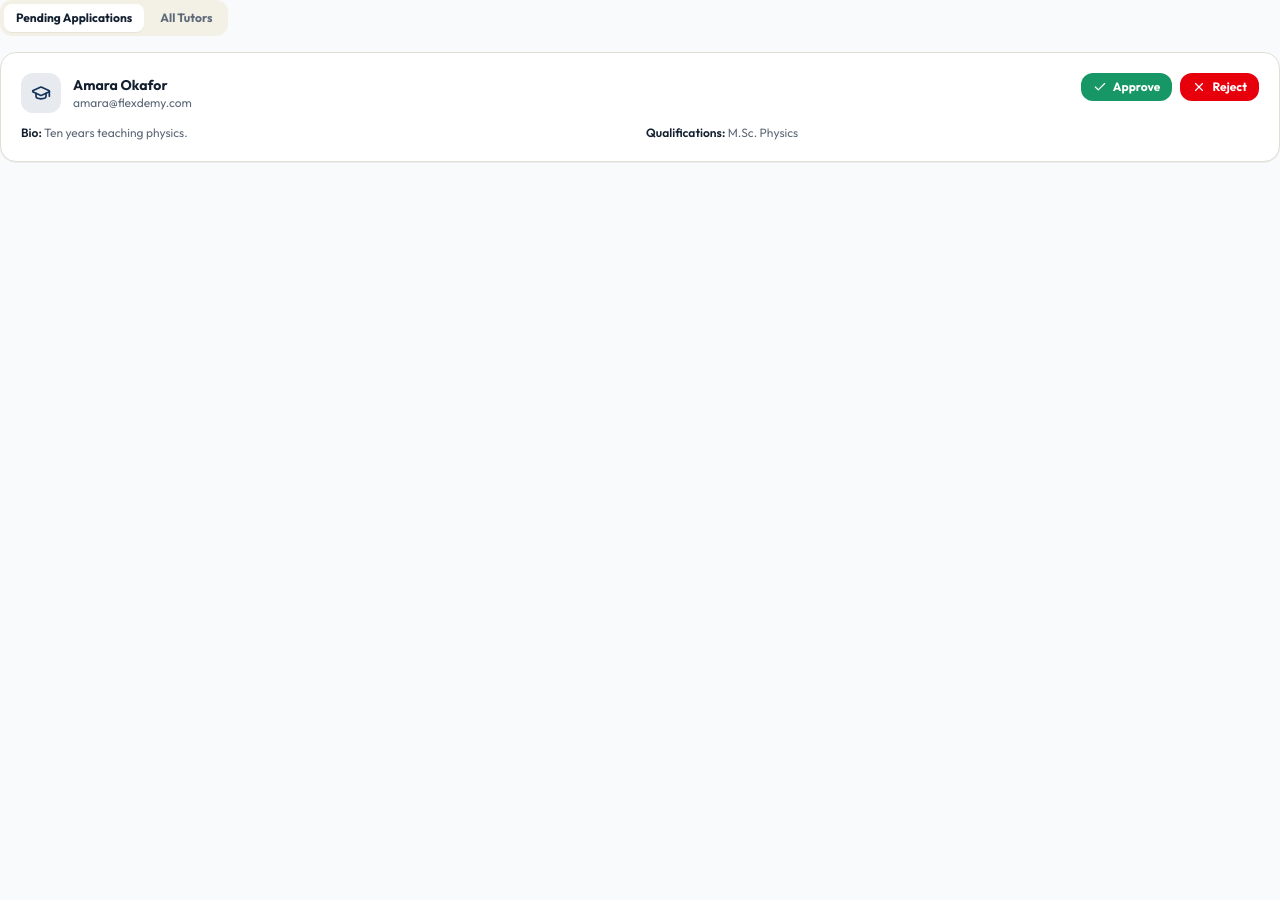
Test: TutorApprovals › Reject opens an inline reason textarea (no browser prompt) and requires a reason before confirming
The image size is (1280, 900).
Expected: the text "Amara Okafor" is shown, [73,76,168,94]
Click the button "Reject". click: point(1220, 87)
box: [1180,73,1259,101]
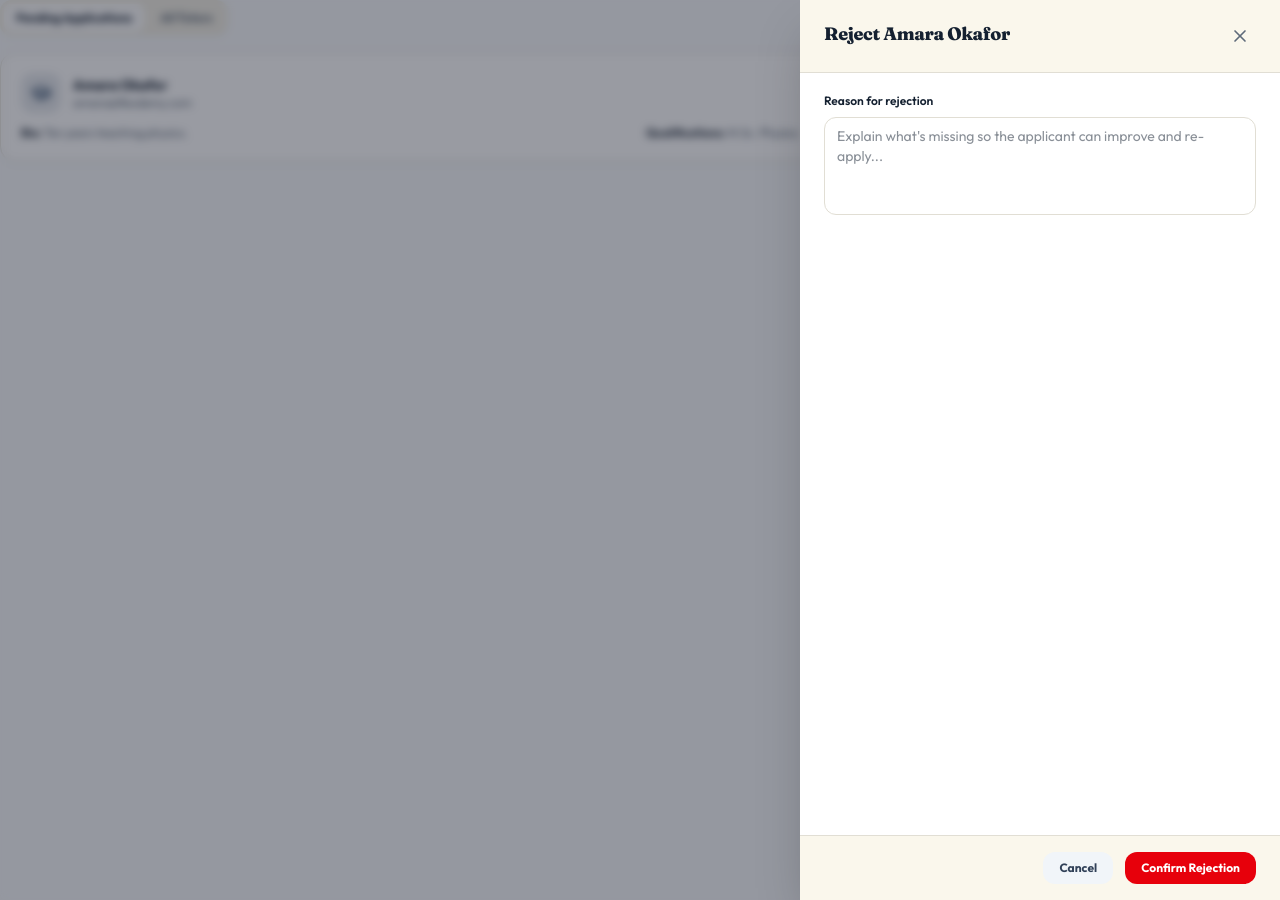
Expected: the text box labelled "Reason for rejection" is shown, [824,117,1256,215]
Click the button "Confirm Rejection". click: point(1191, 868)
box: [1125,852,1256,884]
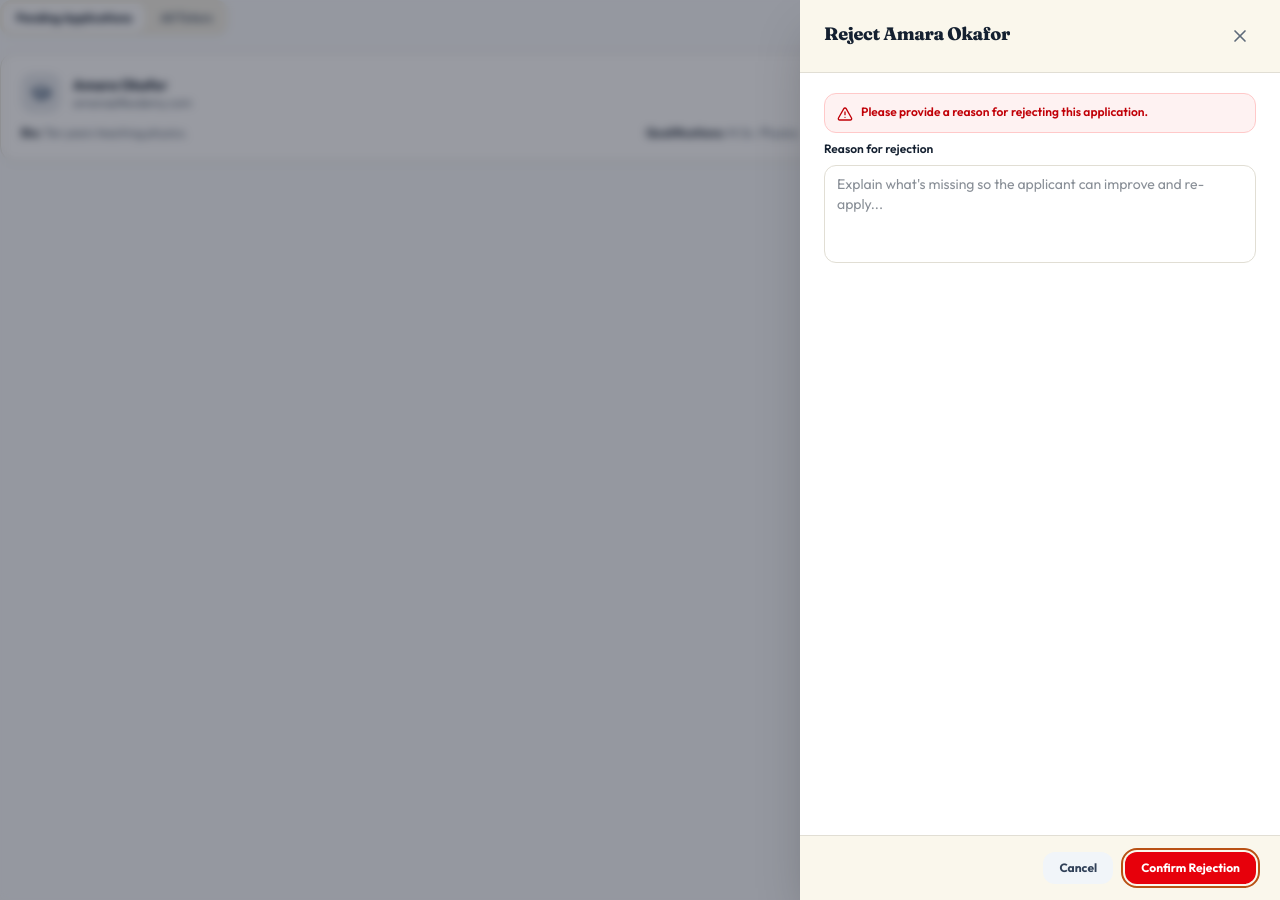
Expected: the text "Please provide a reason for rejecting this application." is shown, [861,104,1148,120]
